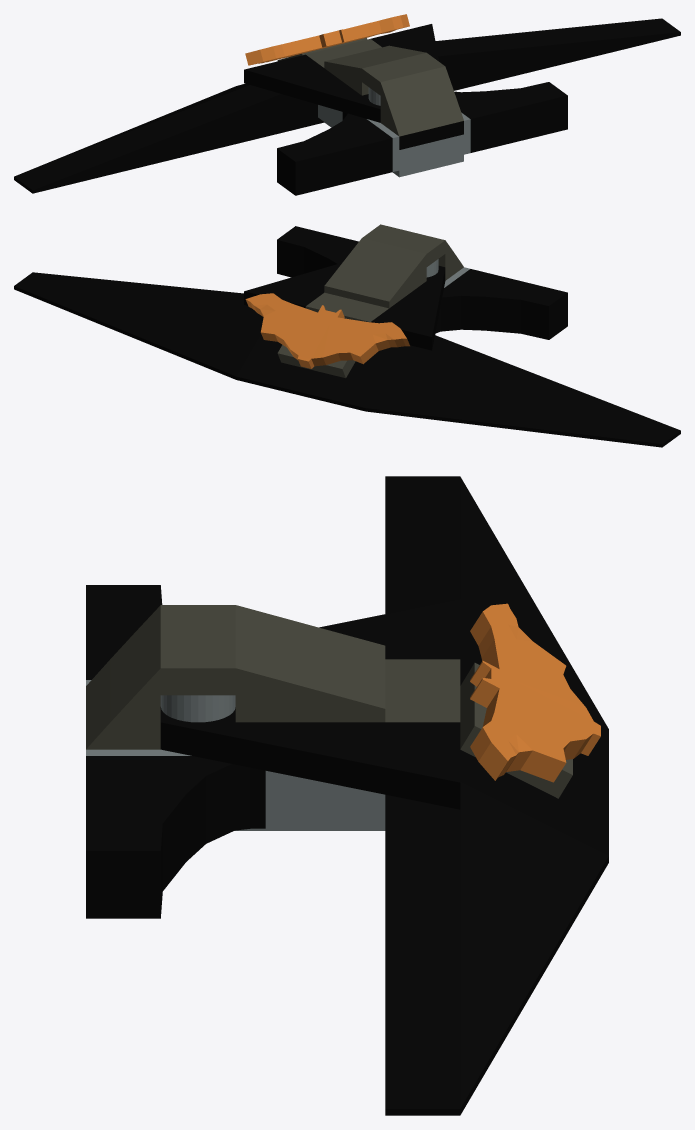
The model's file is wingRight.dae.
The picture shows the model from 3 angles, top to bottom: view 1: azimuth 30°, elevation 25°; view 2: azimuth 150°, elevation 25°; view 3: azimuth 270°, elevation 25°; orthographic projection. The views are drawn at different scales.
Parts seen in each view (by area): view 1: wing_tip_black_left, wing_tip_black_right, wing_signal_holder, dark_gray_1x2_002, wing_signal_holder_001, black_triangle, sign, engine_exhaust_dark_gray_2x2, light_gray_4x2, black_4x2, light_gray_4x2_001, ultra_thin_light_gray_1x4 (+2 smaller); view 2: wing_tip_black_left, wing_tip_black_right, wing_signal_holder, sign, engine_exhaust_dark_gray_2x2, black_triangle, wing_signal_holder_001, dark_gray_1x2_002, dark_gray_sign_holder, dark_gray_1x2, dark_gray_1x2_001; view 3: wing_tip_black_right, black_triangle, wing_signal_holder_001, wing_tip_black_left, engine_exhaust_dark_gray_2x2, dark_gray_1x2_002, sign, ultra_thin_light_gray_1x4_001, wing_signal_holder, dark_gray_1x2, dark_gray_1x2_001, dark_gray_sign_holder (+2 smaller).
Boxes of the visible parts, x1,y1,x2,y2 form: wing_tip_black_left: (14, 83, 324, 193); wing_tip_black_right: (435, 18, 680, 90); wing_signal_holder: (277, 112, 392, 195); dark_gray_1x2_002: (362, 52, 463, 136); wing_signal_holder_001: (454, 82, 567, 152); black_triangle: (244, 24, 439, 122); sign: (245, 14, 409, 65); engine_exhaust_dark_gray_2x2: (324, 45, 425, 95); light_gray_4x2: (324, 122, 463, 177); black_4x2: (399, 121, 463, 149); light_gray_4x2_001: (399, 134, 463, 163); ultra_thin_light_gray_1x4: (318, 105, 399, 171); wing_tip_black_left: (301, 335, 680, 447); wing_tip_black_right: (14, 272, 313, 395); wing_signal_holder: (435, 269, 567, 339); sign: (245, 293, 409, 368); engine_exhaust_dark_gray_2x2: (324, 238, 426, 308); black_triangle: (244, 263, 445, 350); wing_signal_holder_001: (277, 226, 358, 277); dark_gray_1x2_002: (362, 224, 463, 280); dark_gray_sign_holder: (277, 345, 355, 378); dark_gray_1x2: (342, 300, 388, 322); dark_gray_1x2_001: (305, 292, 356, 312); wing_tip_black_right: (385, 750, 608, 1115); black_triangle: (160, 599, 460, 809); wing_signal_holder_001: (86, 756, 265, 918); wing_tip_black_left: (385, 476, 608, 792); engine_exhaust_dark_gray_2x2: (235, 605, 385, 722); dark_gray_1x2_002: (86, 605, 235, 749); sign: (470, 603, 600, 782); ultra_thin_light_gray_1x4_001: (86, 749, 385, 823); wing_signal_holder: (86, 585, 162, 679); dark_gray_1x2: (385, 659, 460, 690); dark_gray_1x2_001: (385, 691, 460, 722); dark_gray_sign_holder: (460, 663, 572, 798).
Size of the model in its own units: 160 by 55.9 by 19.2.
